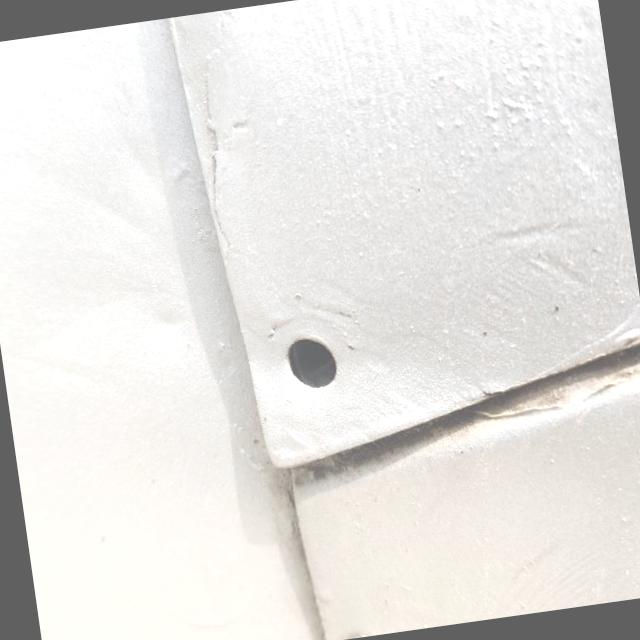Missing Fastener: (288, 334, 340, 390)
